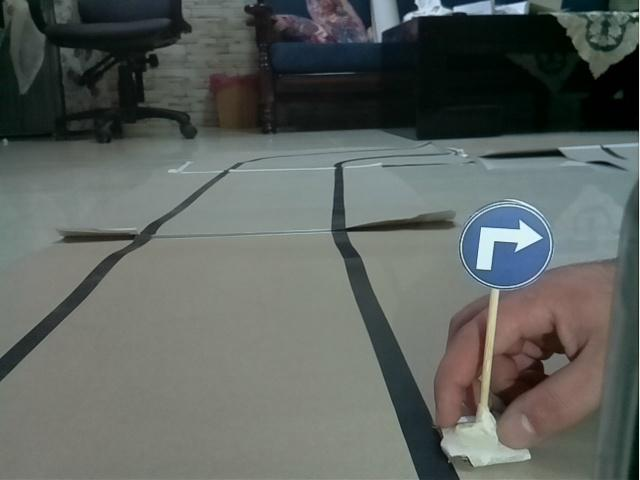turn: (459, 199, 553, 292)
